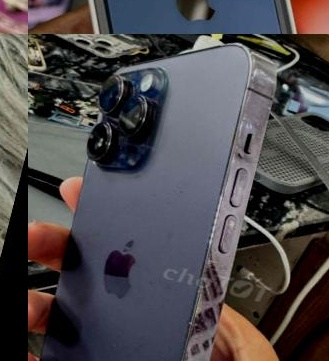scratch: (180, 114, 266, 338), (247, 57, 283, 103), (112, 128, 138, 156), (105, 105, 123, 119)
